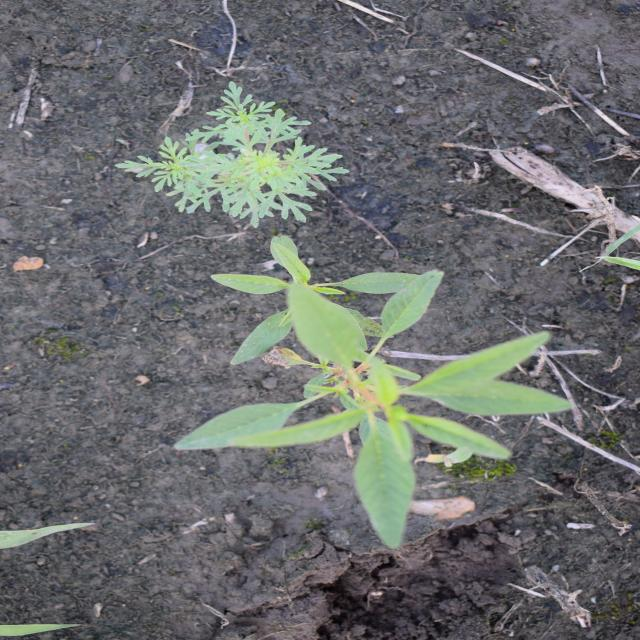Ragweed: (112, 79, 354, 230)
Waterhemp: (171, 234, 578, 552)
